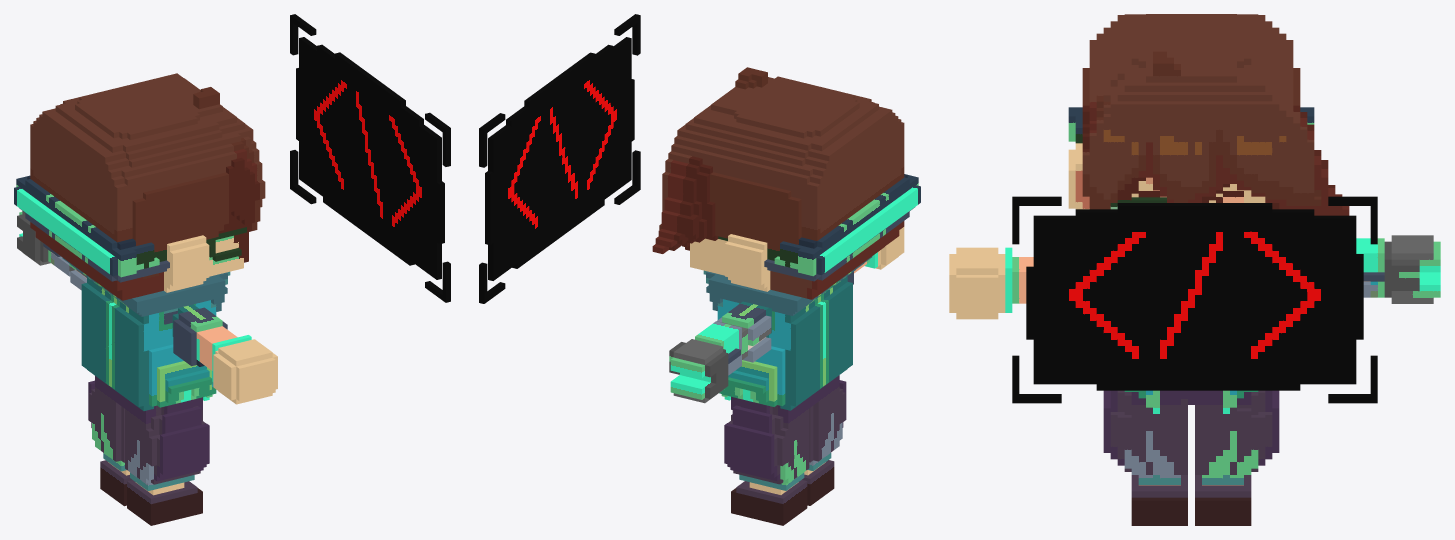
File: 只知道写BUG的屑代码师_3.gltf
3 renders of one model, left to right at view 1: azimuth 30°, elevation 25°; view 2: azimuth 150°, elevation 25°; view 3: azimuth 270°, elevation 25°, orthographic. The views are drawn at different scales.
Visible parts, largest first — view 1: Object; view 2: Object; view 3: Object.
Part boxes in pixels (x1,y1,x2,y2): Object: [14, 14, 450, 525]; Object: [479, 14, 920, 525]; Object: [949, 14, 1440, 525].
Size of the model in its own units: 60 by 75 by 70.
Materials: 1 (1 with a texture image).
